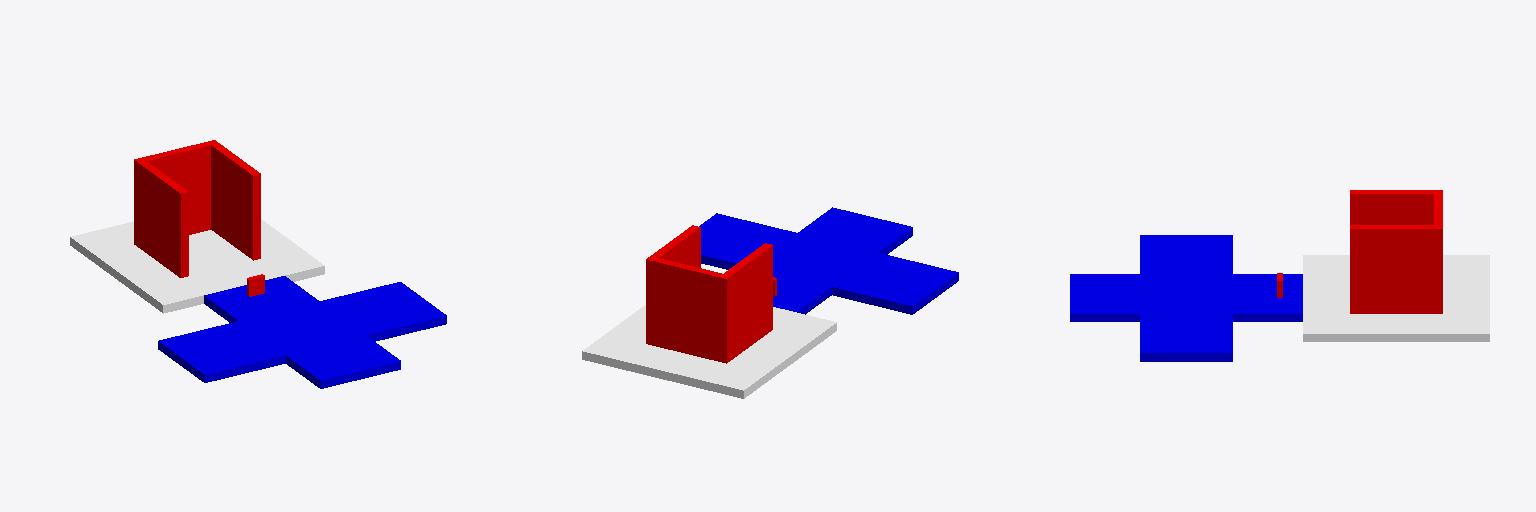
Rendered from ColorStage.obj.
3 renders of one model, left to right at view 1: azimuth 30°, elevation 25°; view 2: azimuth 150°, elevation 25°; view 3: azimuth 270°, elevation 25°, orthographic.
Parts seen in each view (by area): view 1: yuka, tuuro, tuuro.001, kabe.002, kabe.001, tuuro.002, kabe; view 2: yuka, tuuro, kabe, tuuro.001, kabe.001, tuuro.002, kabe.002; view 3: yuka, tuuro, kabe.002, tuuro.002, tuuro.001, kabe.001, kabe.
Boxes of the visible parts, box(x1,y1,x2,y2) form: yuka: box(70, 219, 324, 313); tuuro: box(204, 276, 400, 388); tuuro.001: box(158, 321, 285, 382); kabe.002: box(211, 143, 260, 260); kabe.001: box(139, 161, 188, 277); tuuro.002: box(320, 282, 446, 341); kabe: box(134, 140, 217, 247); yuka: box(582, 305, 836, 398); tuuro: box(773, 207, 912, 314); kabe: box(646, 256, 730, 363); tuuro.001: box(832, 253, 958, 314); kabe.001: box(724, 243, 772, 359); tuuro.002: box(699, 213, 796, 269); kabe.002: box(651, 225, 700, 267); yuka: box(1303, 255, 1489, 341); tuuro: box(1070, 274, 1302, 321); kabe.002: box(1350, 225, 1433, 313); tuuro.002: box(1140, 314, 1232, 361); tuuro.001: box(1140, 235, 1232, 273); kabe.001: box(1350, 190, 1433, 224); kabe: box(1434, 190, 1442, 313).
Bounding box in the file's own units: 30 × 11 × 45.